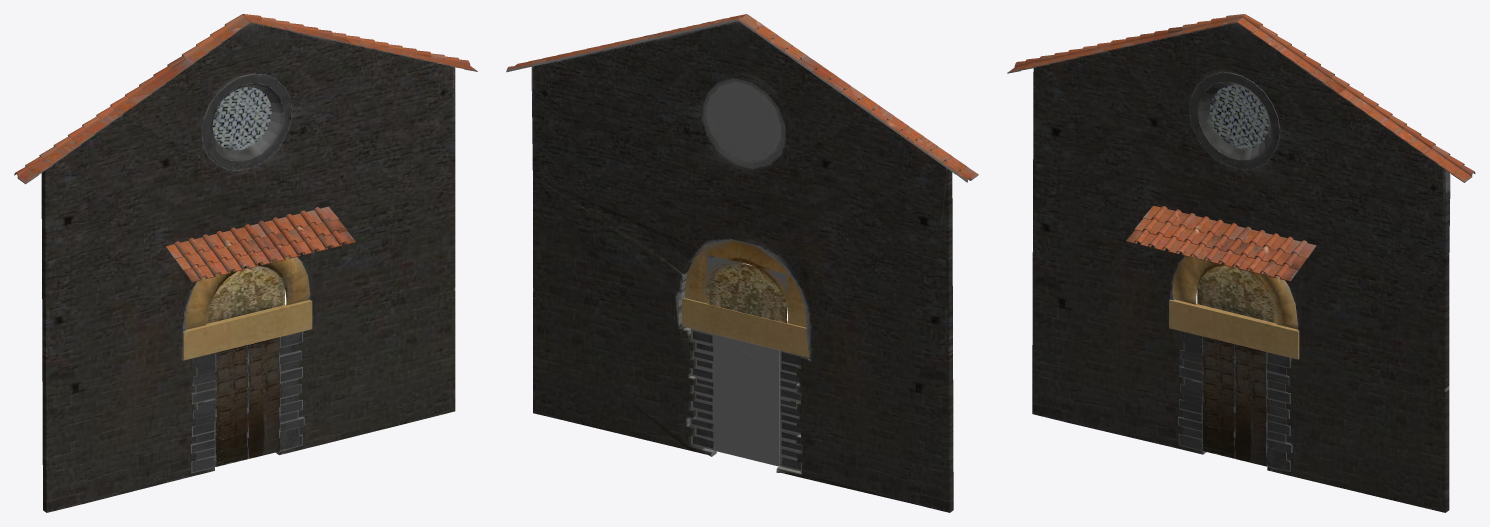
File: Facciata.obj
3 views of the same model, side by side, from view 1: azimuth 30°, elevation 25°; view 2: azimuth 150°, elevation 25°; view 3: azimuth 330°, elevation 25° (orthographic).
Visible parts, largest first — view 1: EX_MuraChiesaFronteMap; view 2: EX_MuraChiesaFronteMap; view 3: EX_MuraChiesaFronteMap.
Part boxes in pixels (x1=…): EX_MuraChiesaFronteMap: x1=14, y1=14, x2=477, y2=512; EX_MuraChiesaFronteMap: x1=506, y1=14, x2=978, y2=512; EX_MuraChiesaFronteMap: x1=1007, y1=14, x2=1475, y2=512.
Size of the model in its own units: 11.37 by 10.61 by 1.65.
1 material, 1 textured.
